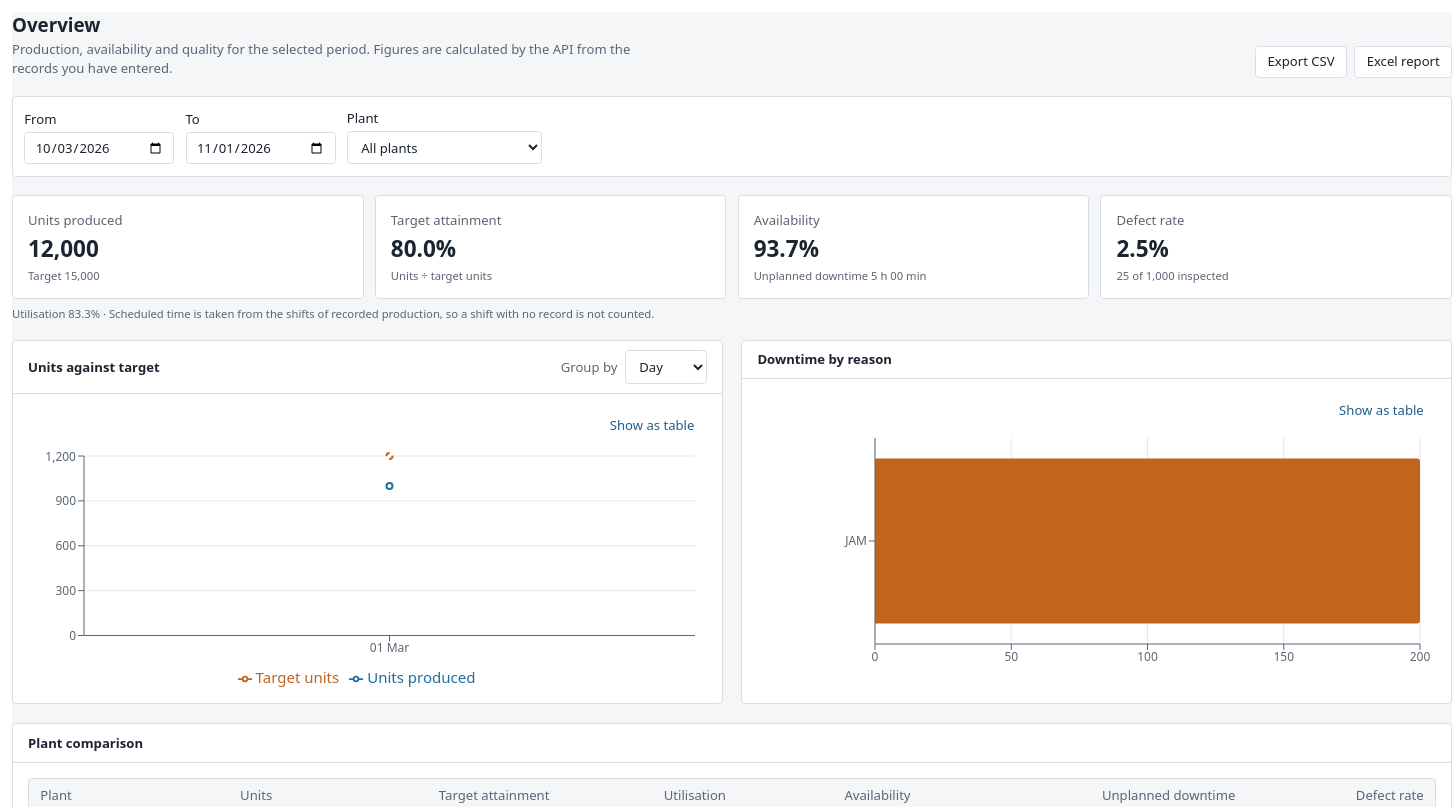
Test: OverviewPage › offers a table view of the trend chart
Click the button "Show as table" below "Group by": (652, 425) [598,409,707,441]
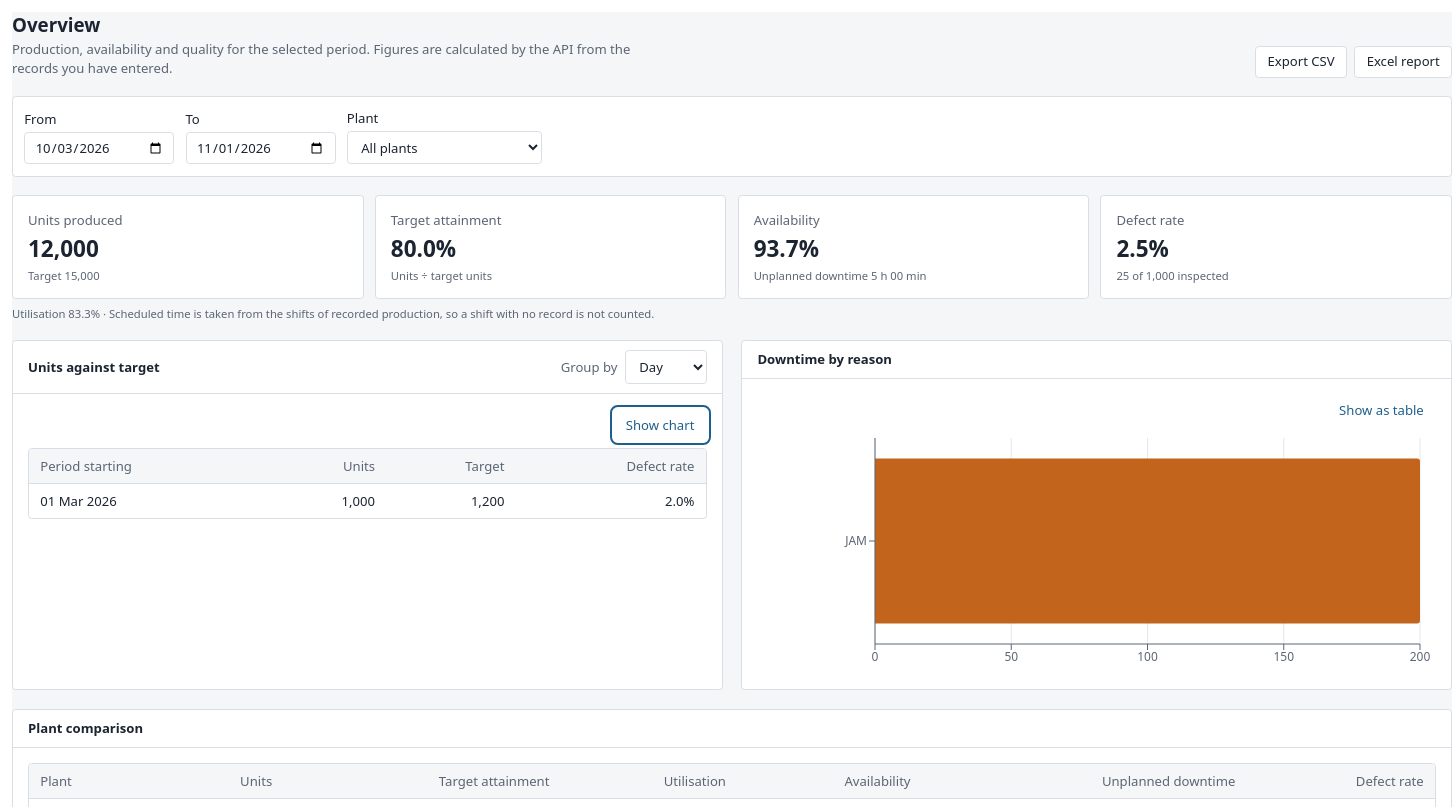
Expected: the table named "units produced and target" is shown, [29,449,706,518]
